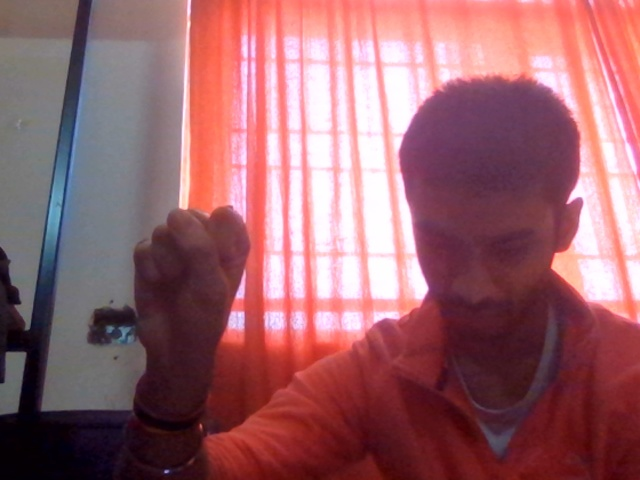S: (111, 197, 297, 413)
